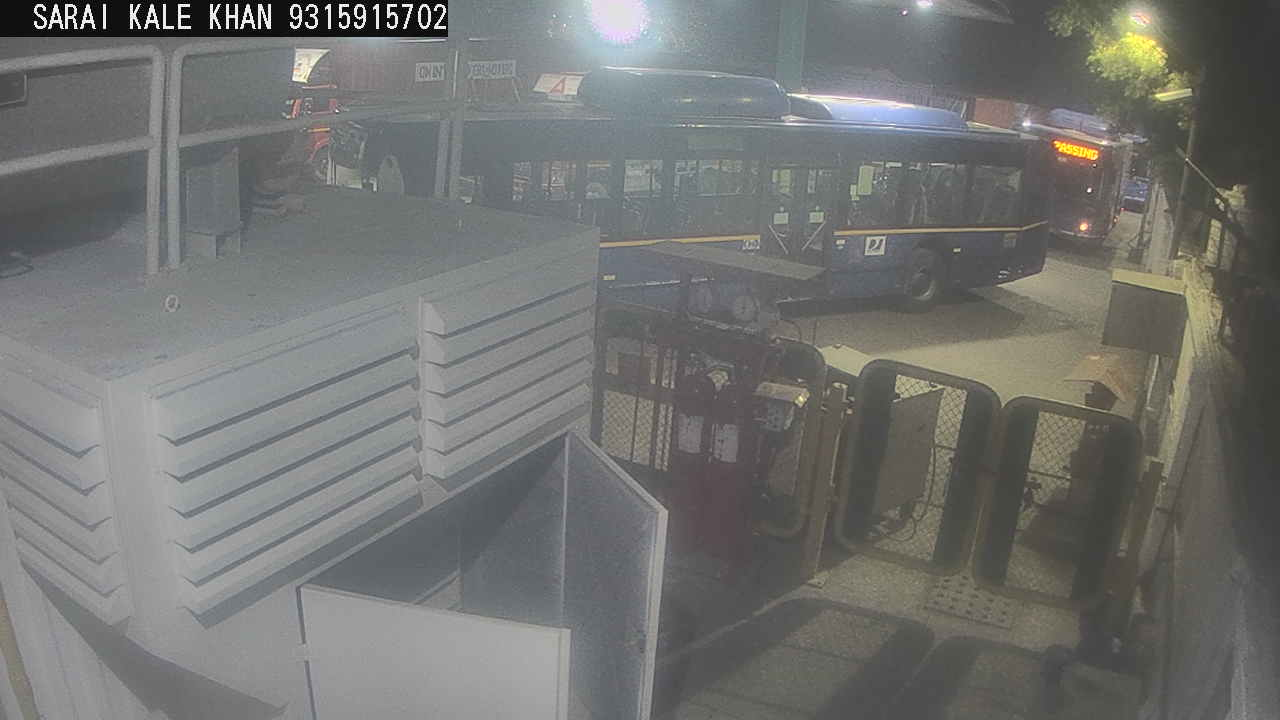HMV: (306, 52, 1073, 340), (260, 38, 457, 183), (1006, 93, 1144, 263), (800, 57, 938, 112), (1112, 112, 1171, 227), (921, 86, 1027, 146), (518, 60, 601, 115)
